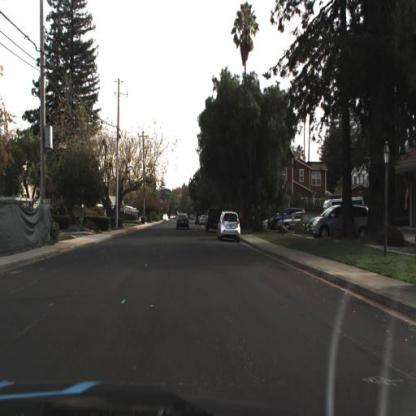car: (305, 203, 373, 243), (216, 211, 243, 244), (274, 210, 310, 234), (266, 211, 293, 234), (203, 210, 225, 236), (176, 212, 193, 233)
